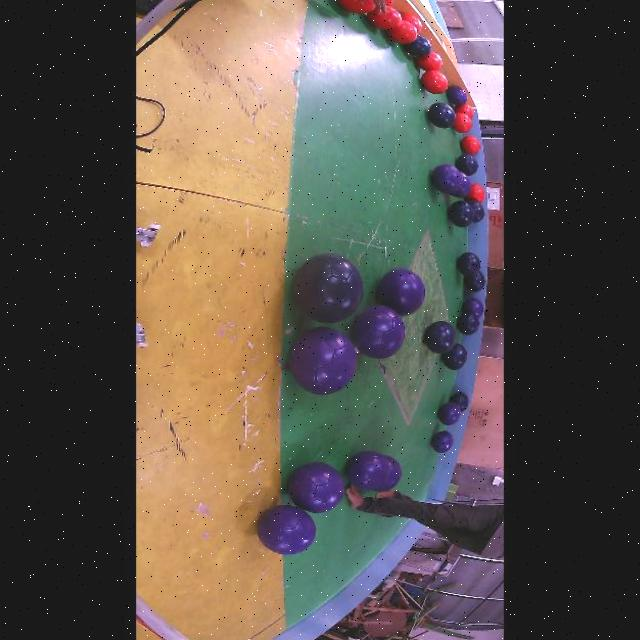B: (292, 253, 362, 323), (424, 322, 455, 353), (440, 343, 467, 370), (426, 103, 454, 129), (447, 200, 473, 227), (403, 35, 431, 57), (455, 253, 480, 277), (455, 313, 478, 336), (454, 154, 477, 176), (463, 272, 484, 292), (448, 392, 468, 412), (466, 200, 484, 222)
P: (288, 327, 356, 394), (287, 462, 343, 513), (256, 506, 315, 554), (351, 306, 404, 359), (376, 268, 424, 315), (344, 451, 389, 492), (430, 164, 462, 194), (376, 456, 401, 492), (450, 172, 471, 198), (436, 402, 459, 425), (431, 431, 453, 453), (461, 297, 482, 318), (445, 86, 467, 106)
R: (365, 6, 401, 30), (385, 20, 416, 44), (420, 70, 447, 94), (337, 0, 374, 14), (415, 52, 441, 71), (459, 135, 480, 154), (452, 113, 471, 134), (400, 14, 421, 33), (466, 184, 484, 203), (453, 104, 472, 118), (384, 0, 393, 6)
